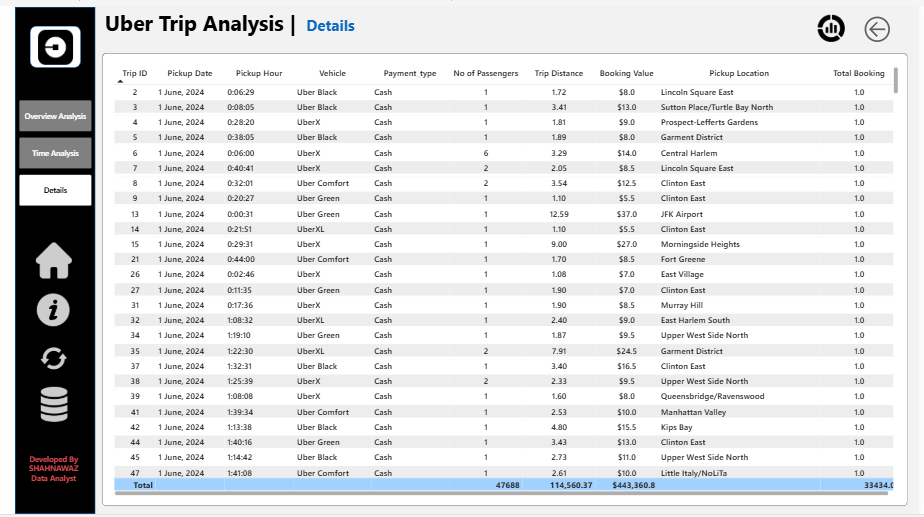

Layout of this report page (visuals, bound fields, positions):
{"tool":"powerbi","page":{"name":"Details","canvas":[1600,900],"ordinal":2},"visuals":[{"type":"shape","box":[0,1.8,142.2,898.2],"z":0},{"type":"textbox","box":[154.8,0,673.2,70.2],"z":1000},{"type":"image","box":[1508.4,102.6,46.8,39.6],"z":2000},{"type":"shape","box":[154.8,82.8,1427.4,802.8],"z":3000},{"type":"tableEx","fields":{"Values":["Trip Details.Trip ID","Trip Details.Pickup Date","Trip Details.Pickup Hour (HH MM SS)","Trip Details.Vehicle","Trip Details.Payment_type","Sum(Trip Details.passenger_count)","Trip Details.Total Trip Distance Measure","Trip Details.Total Booking Value","Location Table.Location","Trip Details.Total Booking"]},"box":[169.2,102.6,1400.4,770.4],"z":4000},{"type":"actionButton","box":[1499.5,13,70.7,57.7],"z":5000},{"type":"image","box":[1402.8,11.2,85.6,57.7],"z":6000},{"type":"shape","box":[27,36,90,73.8],"z":7000},{"type":"group","id":"g1","title":"Group 1","box":[9,37.8,126,72],"z":8000},{"type":"pageNavigator","box":[7.2,167.4,129.6,189],"z":9000},{"type":"image","box":[31.7,412.2,73.8,75.6],"z":10000},{"type":"image","box":[41.4,588.6,55.8,72],"z":11000},{"type":"image","box":[34.2,502.2,68.4,73.8],"z":12000},{"type":"image","box":[28.1,669.6,81,72],"z":13000},{"type":"textbox","box":[3.6,788.4,129.6,72],"z":14000},{"type":"image","box":[9,37.8,126,72],"z":34000,"group":"g1"}]}

Visuals, with their boxes on the page's 1600x900 design canvas (x1, y1, x2, y2). These are canvas units, not pixel positions in the 924x517 screenshot, which may show the page scaled, cropped or inside an application window:
shape: box=[0, 2, 142, 900]
textbox: box=[155, 0, 828, 70]
image: box=[1508, 103, 1555, 142]
shape: box=[155, 83, 1582, 886]
tableEx - Trip Details.Trip ID x Trip Details.Pickup Date: box=[169, 103, 1570, 873]
actionButton: box=[1500, 13, 1570, 71]
image: box=[1403, 11, 1488, 69]
shape: box=[27, 36, 117, 110]
"Group 1" group: box=[9, 38, 135, 110]
pageNavigator: box=[7, 167, 137, 356]
image: box=[32, 412, 106, 488]
image: box=[41, 589, 97, 661]
image: box=[34, 502, 103, 576]
image: box=[28, 670, 109, 742]
textbox: box=[4, 788, 133, 860]
image: box=[9, 38, 135, 110]
